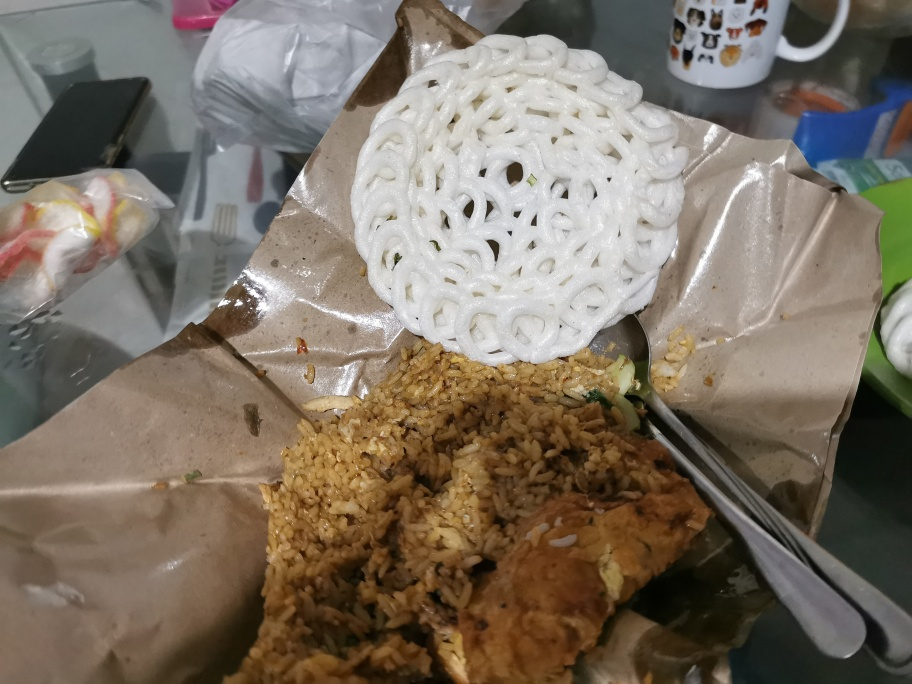kerupuk: (355, 34, 683, 356)
nasi goreng: (245, 352, 708, 684)
